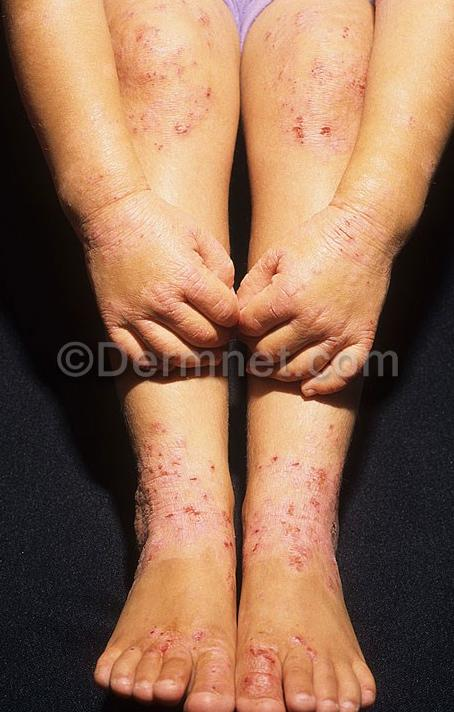excoriacion 2: (75, 195, 406, 395), (121, 6, 370, 161), (143, 624, 321, 699)
excoriacion 3: (132, 439, 342, 590)
exudacion 1: (148, 627, 319, 692)
exudacion 2: (131, 9, 369, 146), (136, 453, 328, 578)
